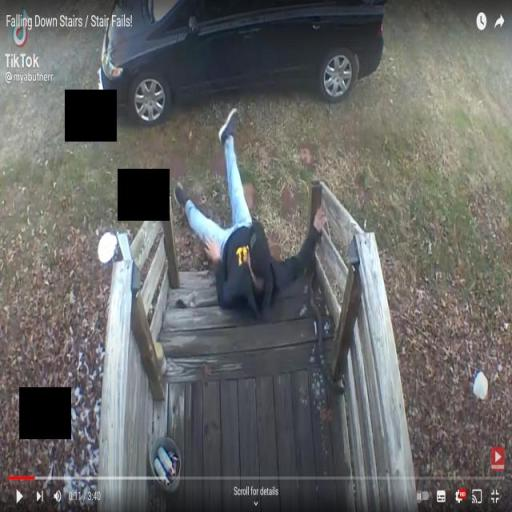Fall: (174, 103, 329, 320)
